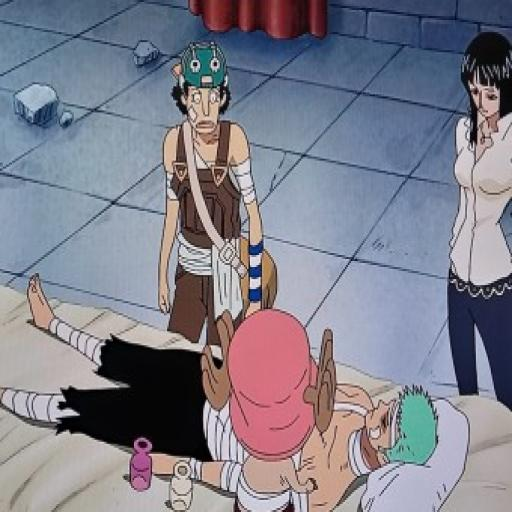NicoRobin: (447, 34, 512, 153)
Usopp: (170, 34, 239, 142)
Zoro: (360, 364, 439, 482)
